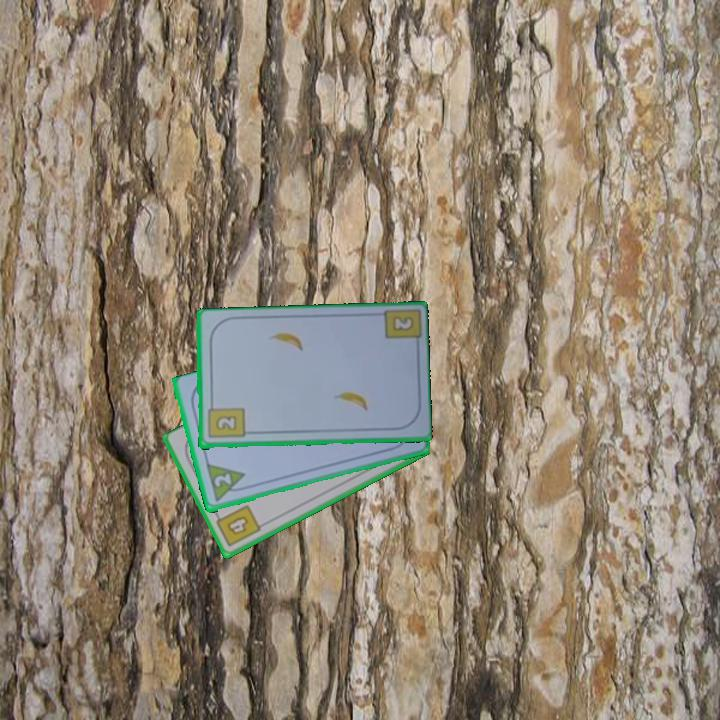2b: (204, 399, 247, 441), (391, 315, 414, 333)
2p: (210, 470, 234, 490)
4b: (211, 501, 264, 550)
